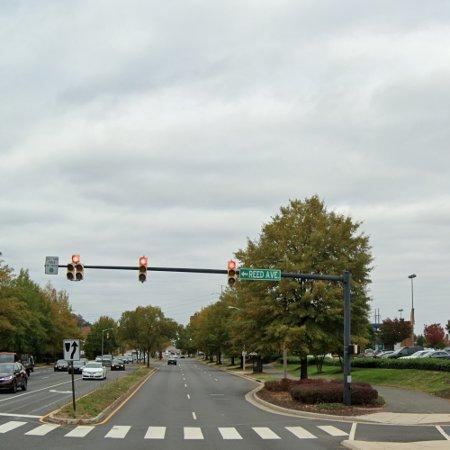traffic lights: (139, 257, 147, 284)
